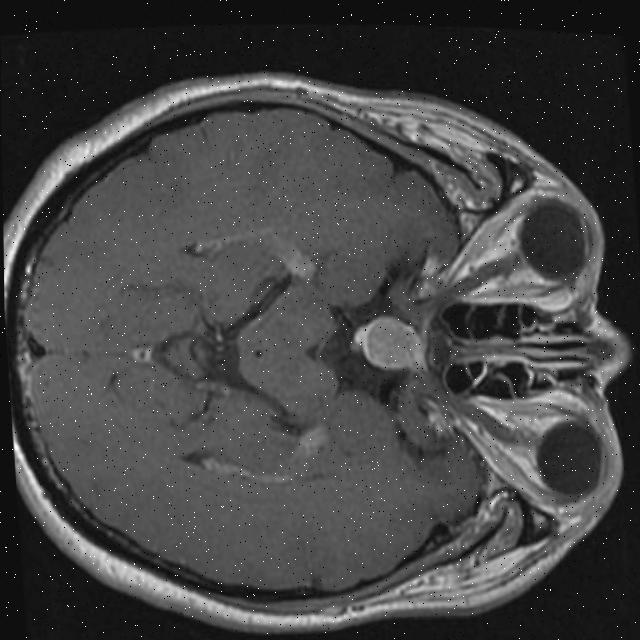Pituitary: (351, 313, 429, 375)
